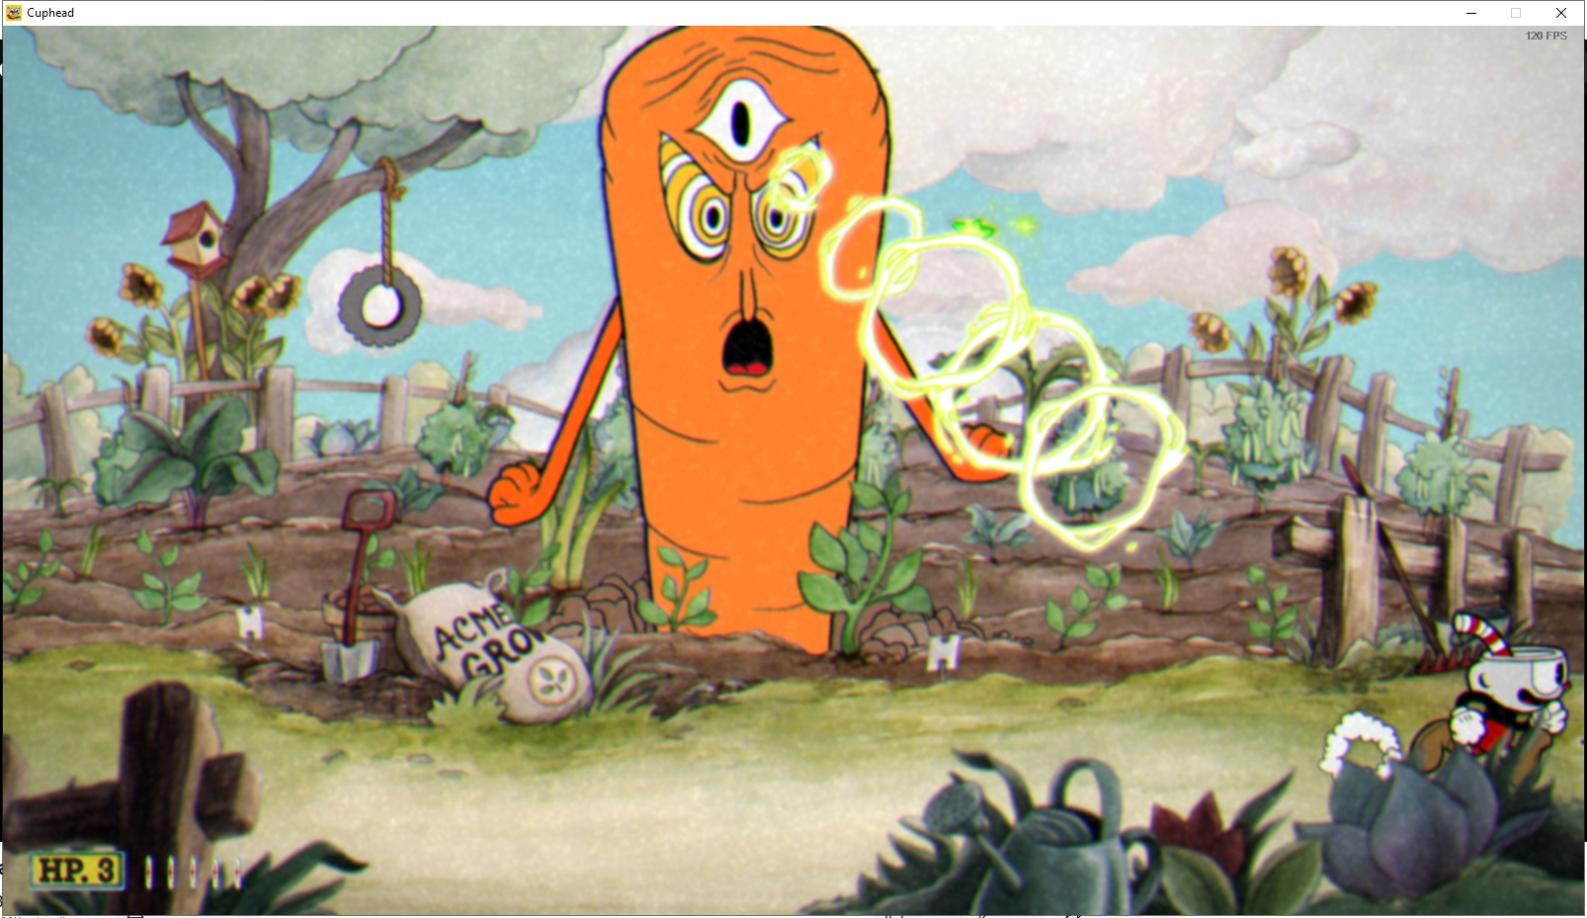hp3: (90, 852, 124, 889)
player: (1393, 600, 1577, 805)
ring: (935, 295, 1116, 483), (1015, 378, 1196, 563), (857, 228, 1033, 400), (816, 185, 933, 310), (758, 132, 840, 228)
